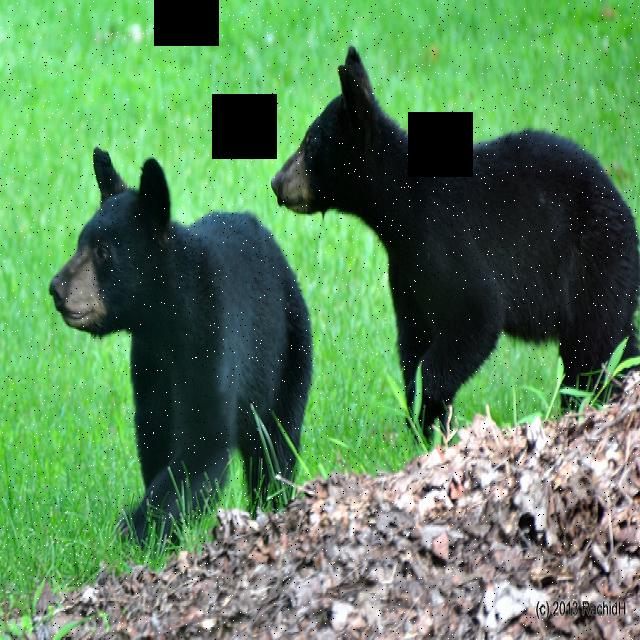Bear: (268, 46, 640, 420), (48, 140, 308, 528)
